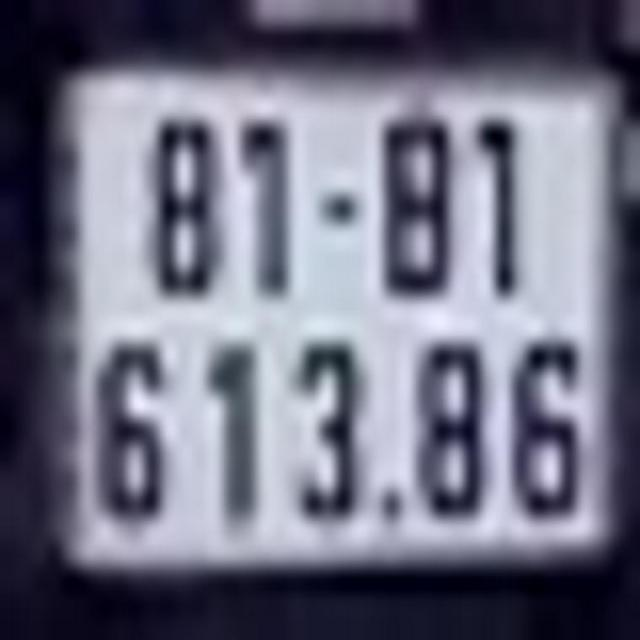1: (236, 120, 290, 297), (208, 340, 259, 526), (478, 116, 517, 295)
3: (296, 340, 364, 524)
6: (512, 339, 587, 516), (95, 345, 164, 521)
8: (416, 339, 483, 520), (154, 120, 217, 295)
B: (382, 119, 449, 291)
